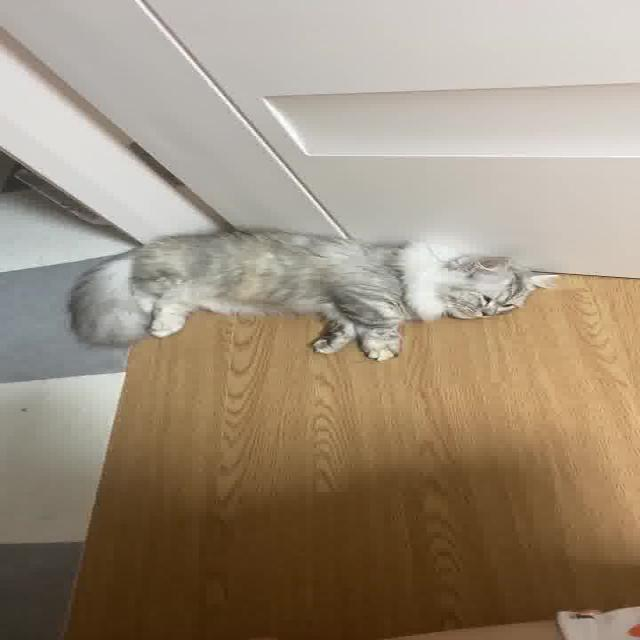cat: (50, 214, 582, 369)
